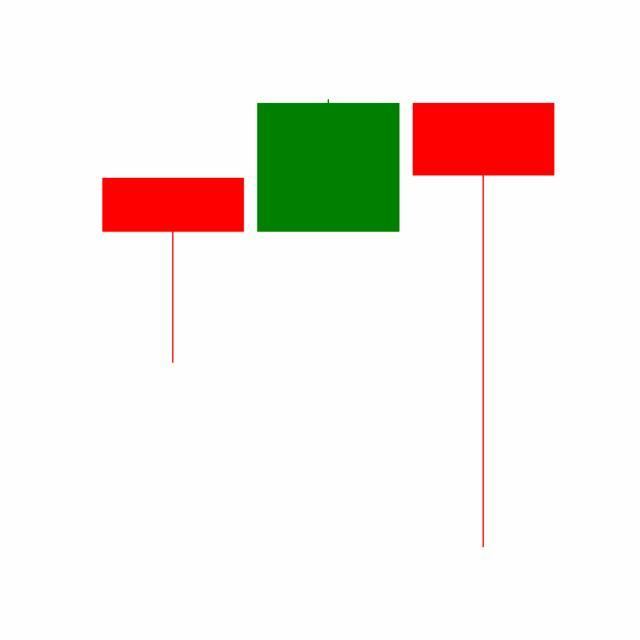Hammer: (406, 99, 562, 553)
